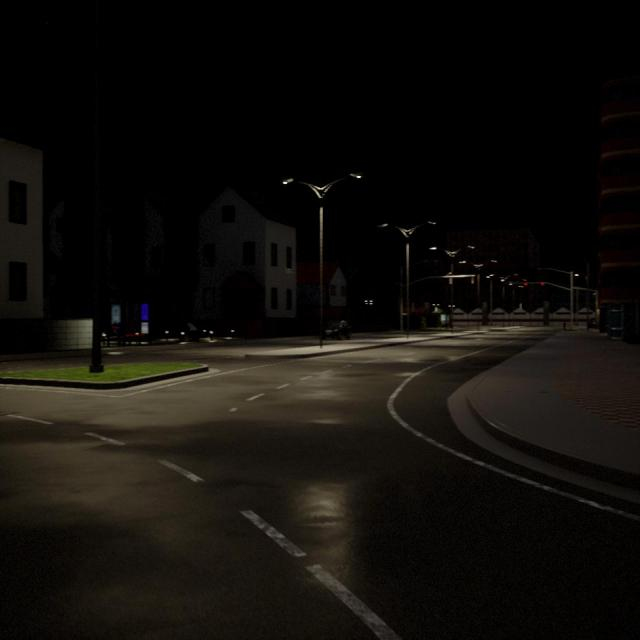Pedestrian: (563, 321, 566, 331)
Vehicle: (325, 321, 351, 339), (588, 318, 597, 328)
traffic_light: (471, 276, 474, 284), (449, 277, 452, 284), (524, 282, 528, 286), (540, 282, 544, 286)
